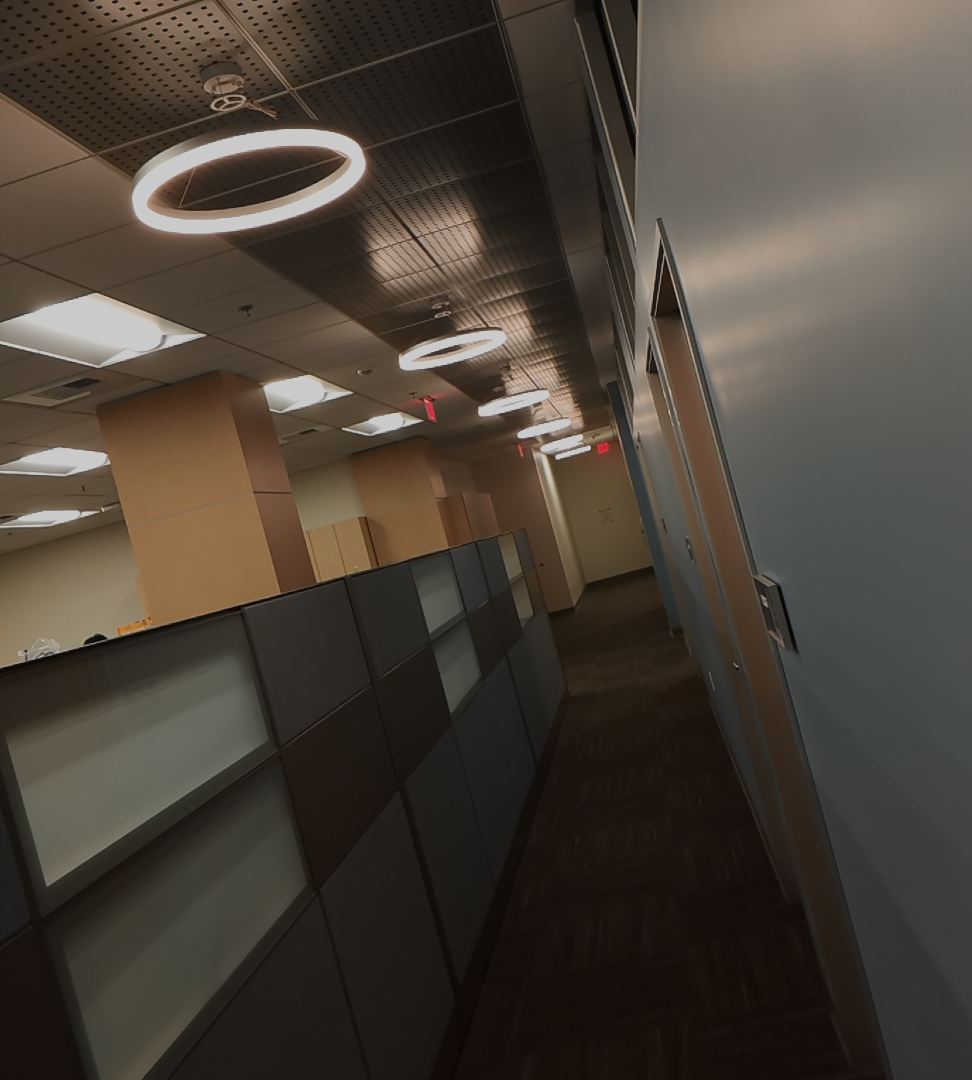emergency_exit: (749, 572, 798, 654), (115, 616, 155, 637)
